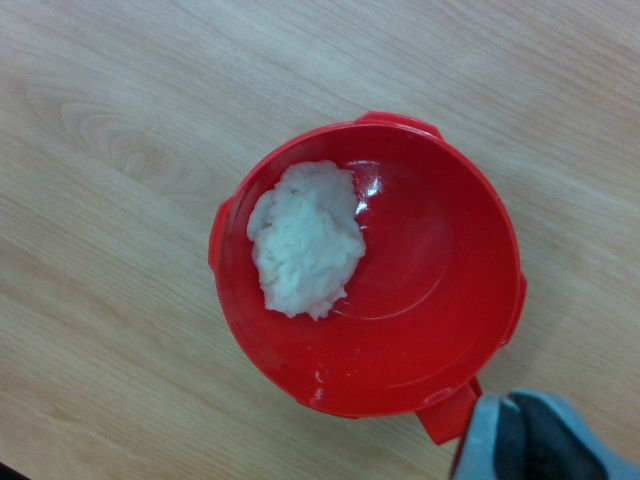mashed_potato: (246, 160, 366, 319)
